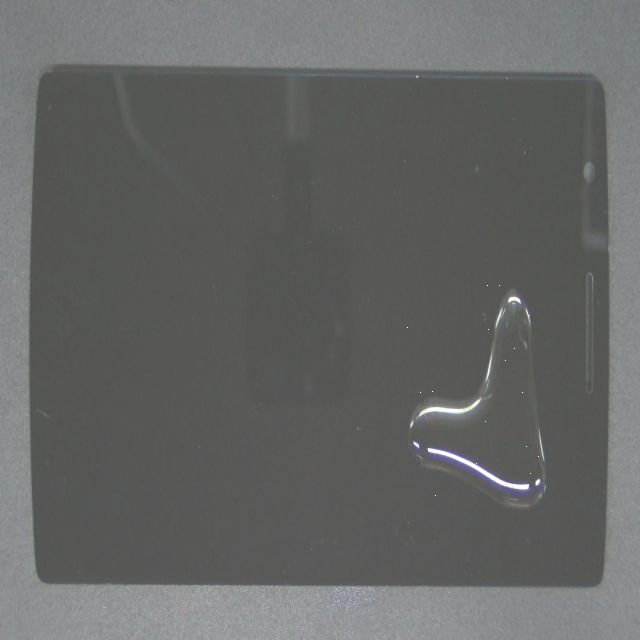oil: (274, 86, 640, 483)
